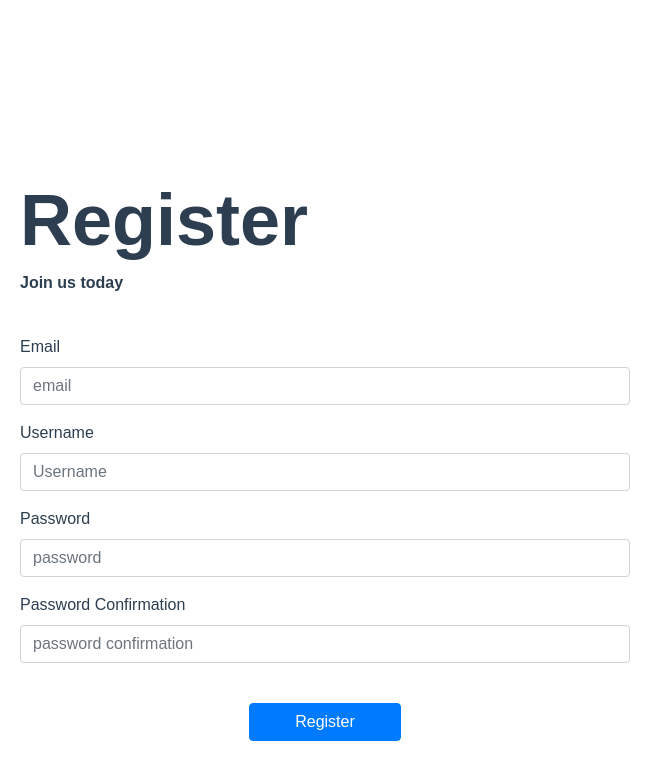
Test case: Visit Register Page › Submit form with filled invalid inputs
Expected: the heading "Register" is shown, [20,180,308,260]
Expected: the text "Join us today" is shown, [20,274,123,291]
Type "1234" into the password field named "password" at (325, 558), box [20,539,630,577]
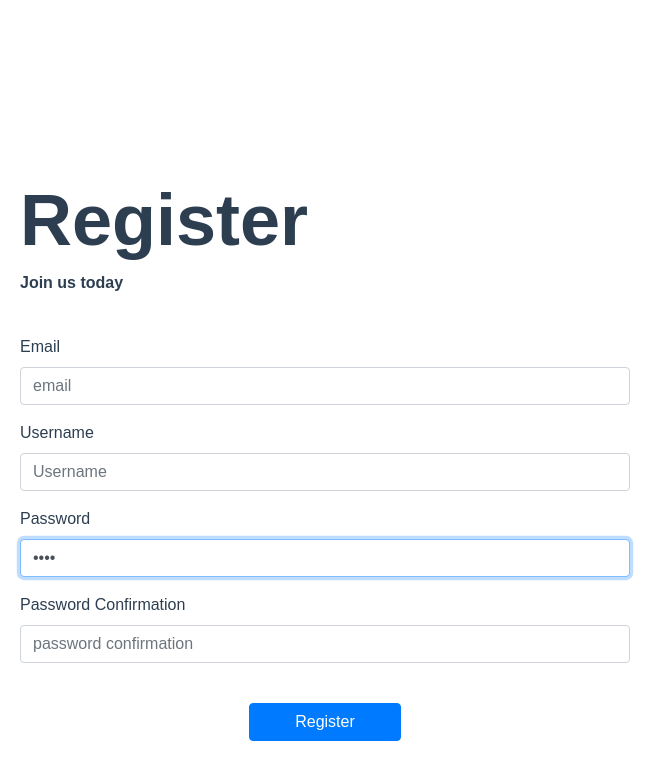
Submit the form, box [20,335,630,741]
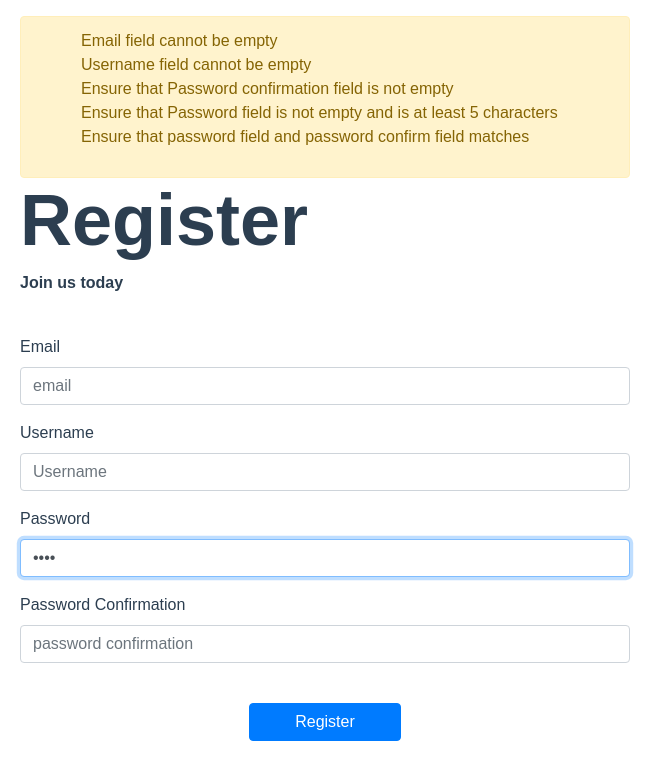
Now the text "Email field cannot be empty" is shown, box [81,32,278,49]
Now the text "Username field cannot be empty" is shown, box [81,56,311,73]
Now the text "Ensure that Password confirmation field is not empty" is shown, box [81,80,454,97]
